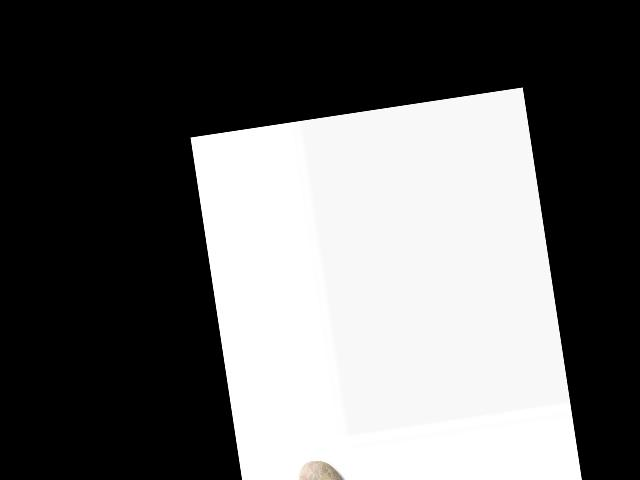beet: (297, 456, 348, 480)
